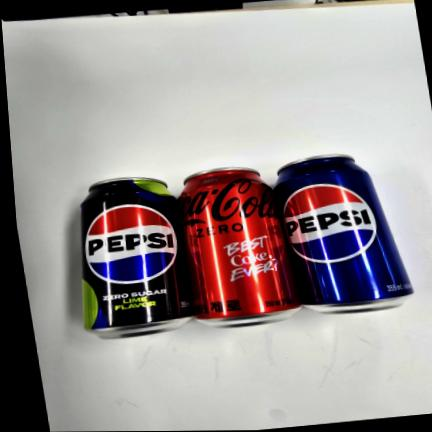can_coke_zero: (178, 167, 301, 328)
can_pepsi: (274, 155, 413, 313)
can_pepsi_zero: (80, 177, 192, 339)
